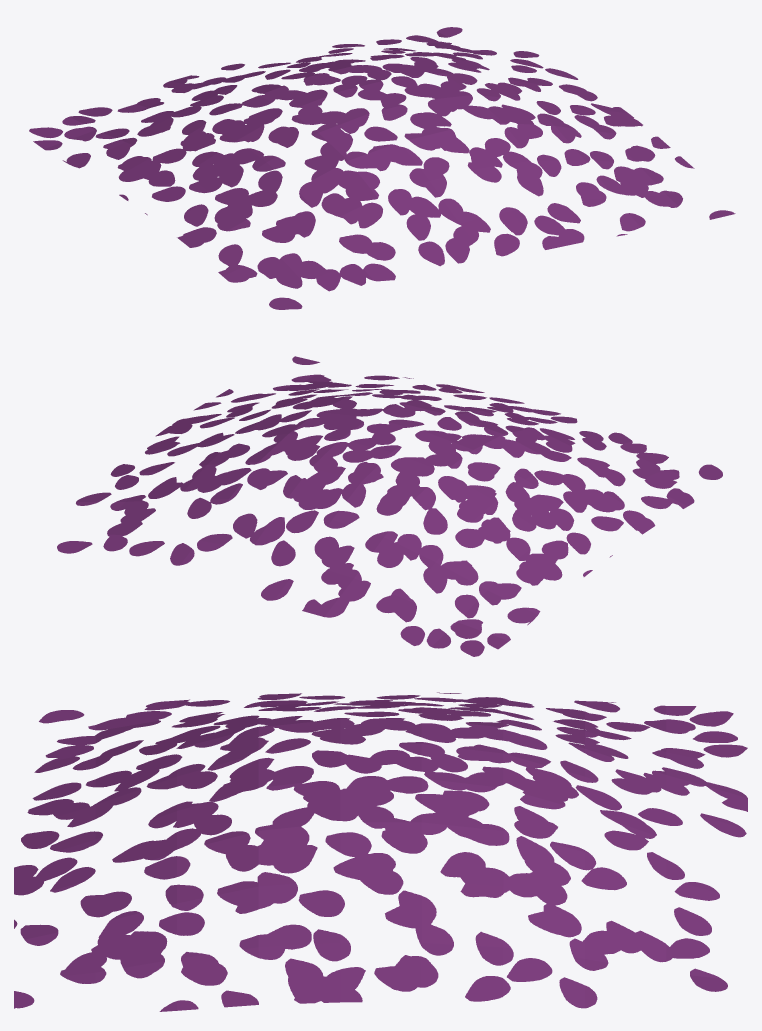
Rendered from Lavanda_Recortada.fbx.
3 renders of one model, top to bottom at view 1: azimuth 30°, elevation 25°; view 2: azimuth 150°, elevation 25°; view 3: azimuth 270°, elevation 25°, orthographic. The views are drawn at different scales.
Visible parts, largest first — view 1: Plane; view 2: Plane; view 3: Plane.
Boxes of the visible parts, bbox=[...] form: Plane: bbox=[29, 27, 735, 309]; Plane: bbox=[57, 356, 722, 656]; Plane: bbox=[14, 692, 747, 1011].
Bounding box in the file's own units: 23.34 × 3.52 × 23.34.
1 material, 1 textured.
